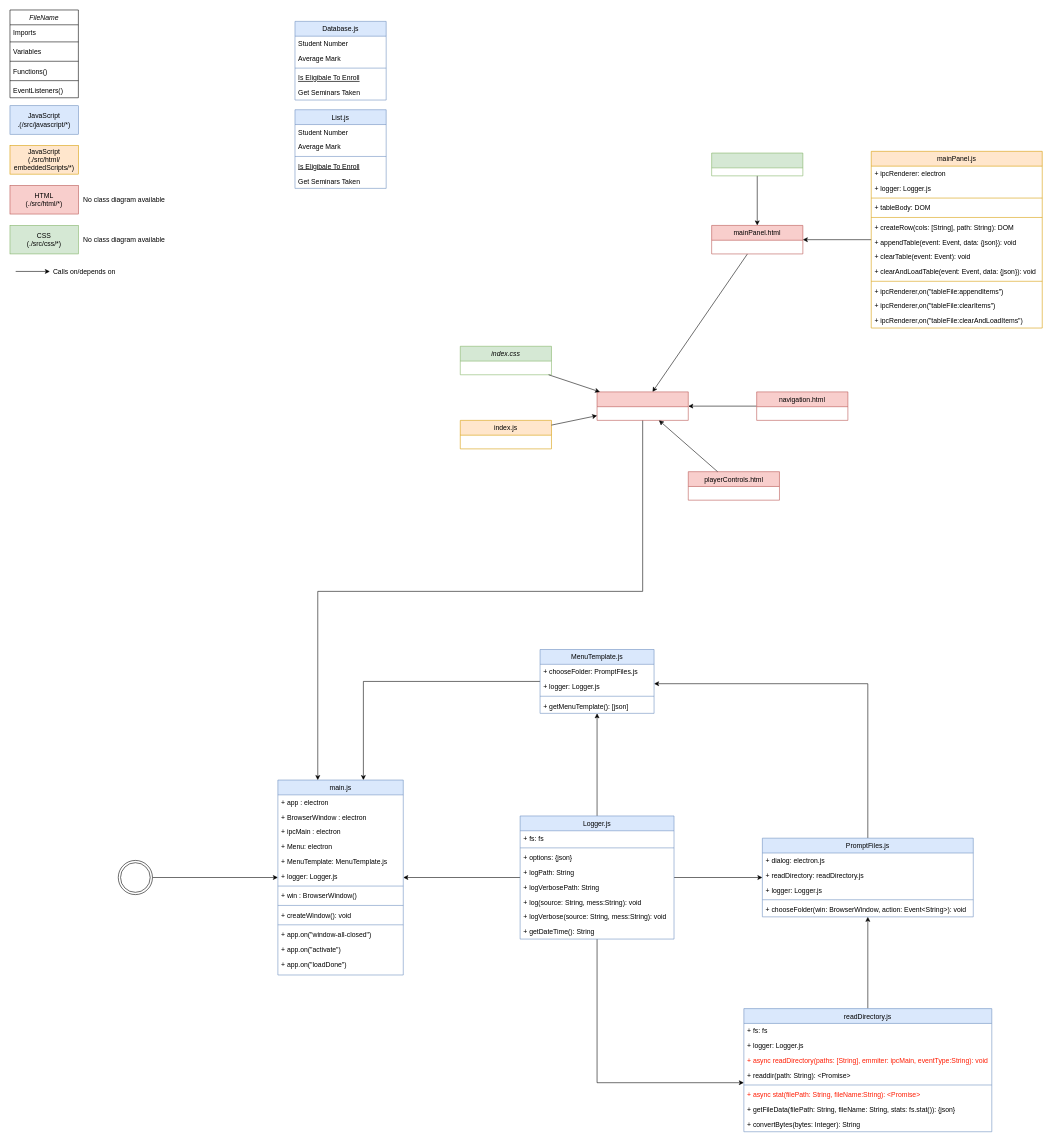
Some shapes in this 1052 by 1143 pixel diagram are drawn without their labels. The shapes that lost their labels are listed below. From the top down, each one's centre as x and y in pixels, then its label:
(x=757, y=164): mainPanel.css
(x=642, y=405): index.html
(x=135, y=877): Start
